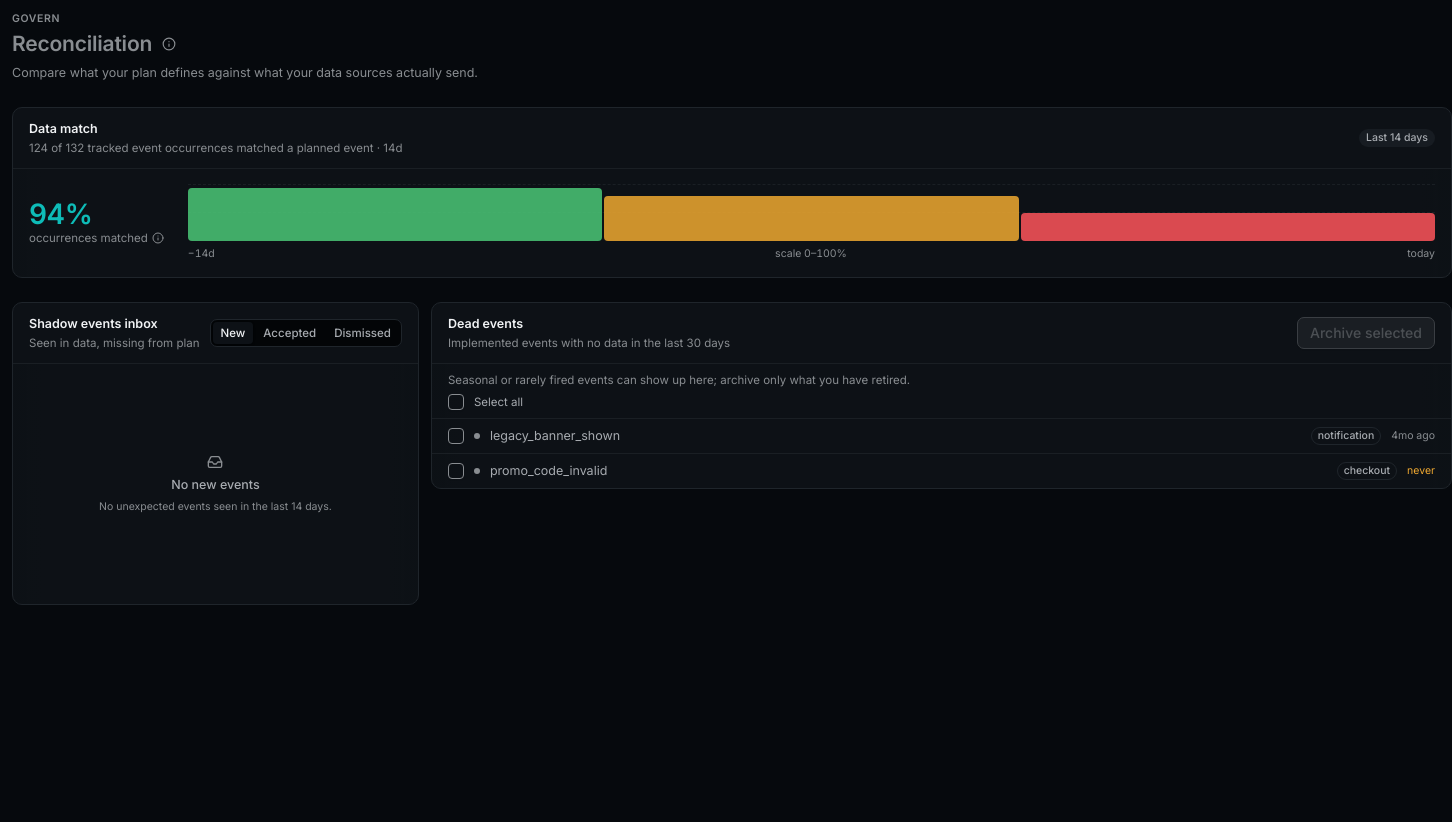
Test: ReconciliationPage › drops selected dead events that disappear on refetch
What coordinates should you click on to do the following:
click the checkbox named "Select all dead events"
I would click on:
 (456, 402)
Its box is [448,394,464,410].
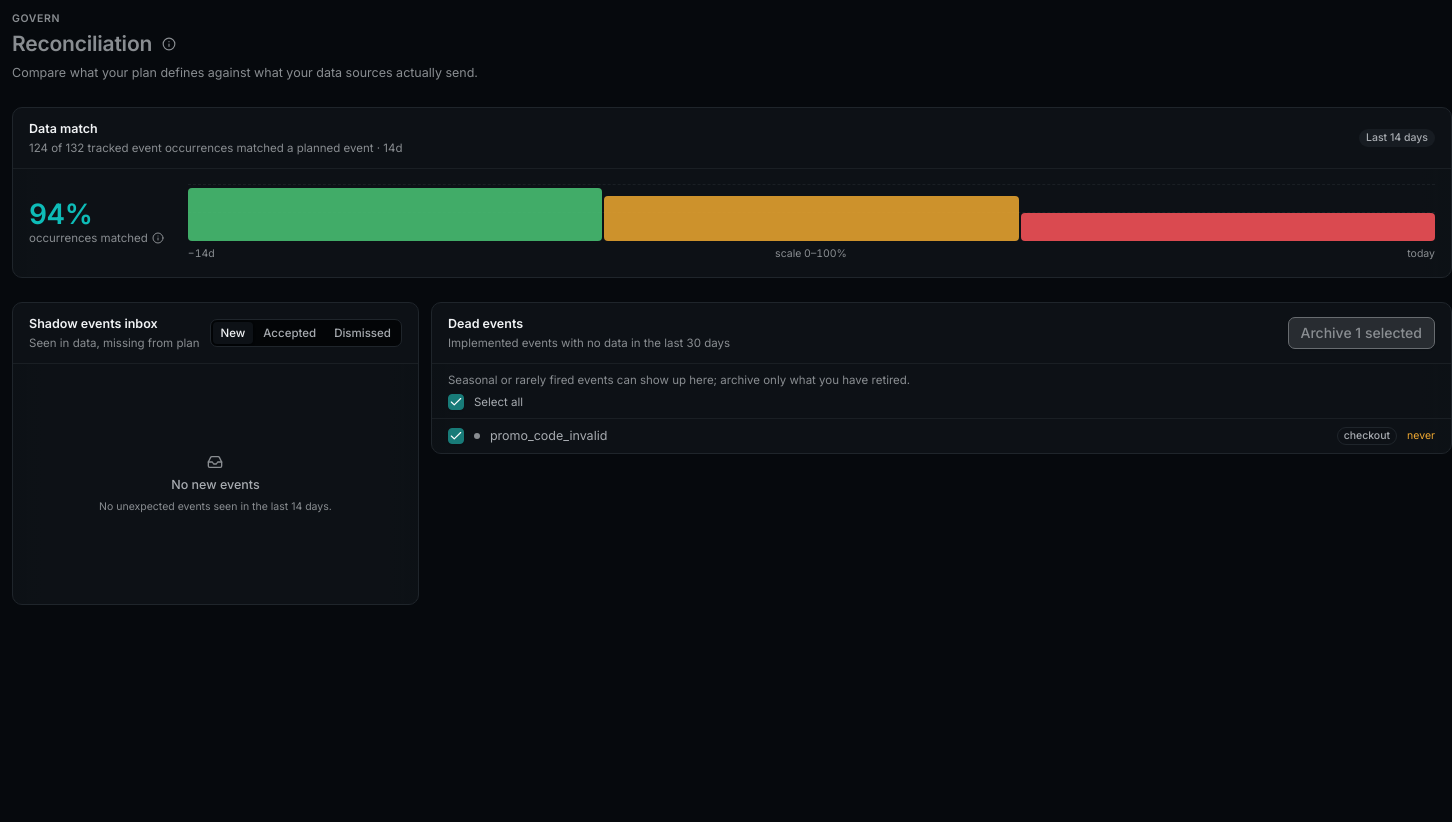
Now the button named "Archive 2 selected" is enabled, box [1288,317,1435,349]
Now the link "legacy_banner_shown" is gone
